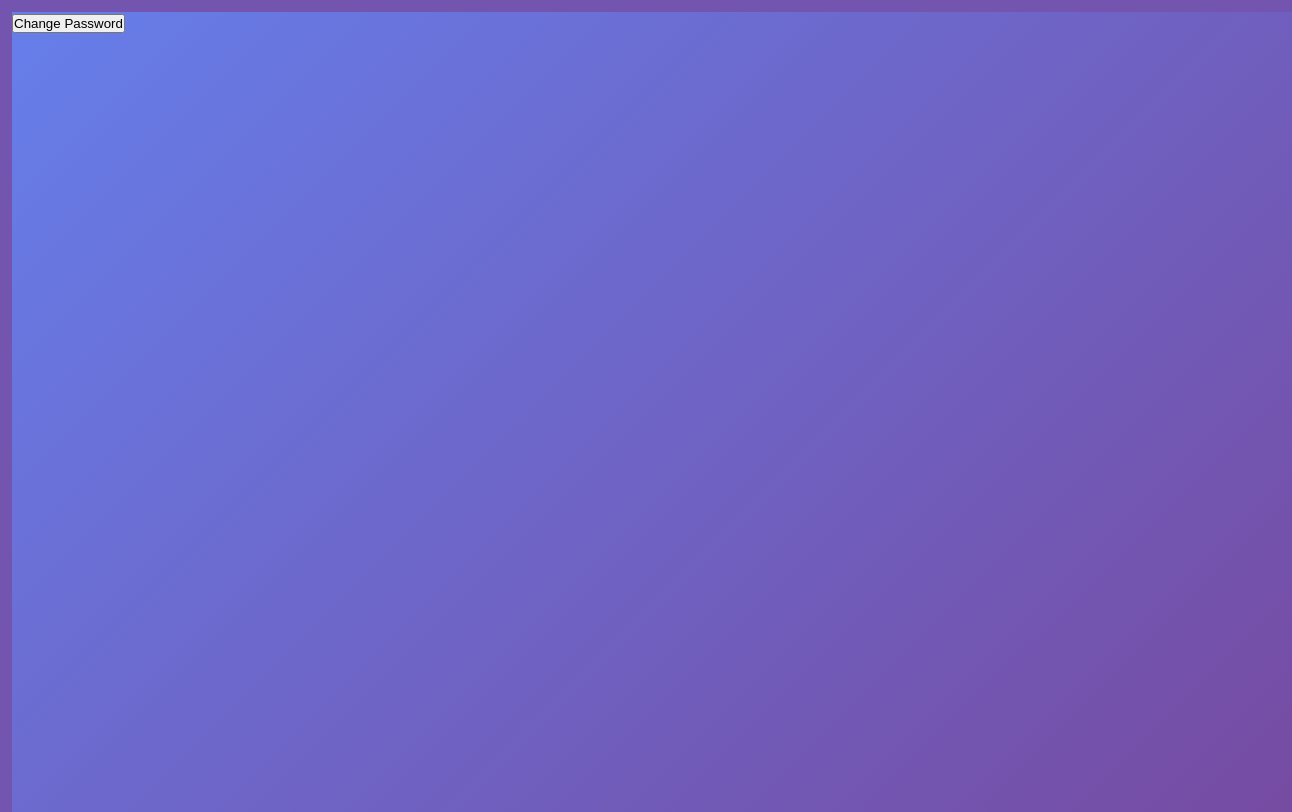
Test: ChangePassword › password mismatch
The width and height of the screenshot is (1292, 812).
Click the button "Change Password" at point(68, 24), box x1=12 y1=14 x2=125 y2=33
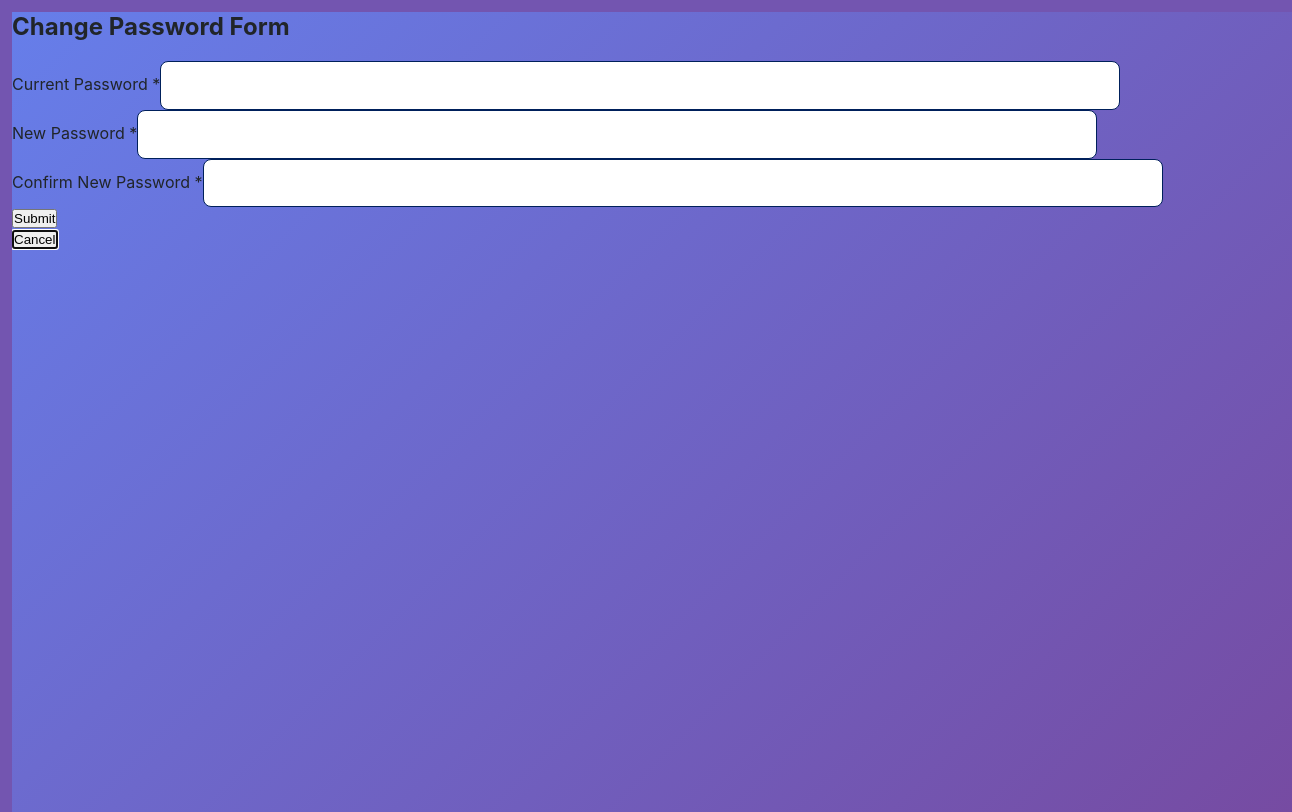
Type "secret12" into the password field labelled "Current Password *" at point(640, 85), box x1=160 y1=61 x2=1120 y2=110
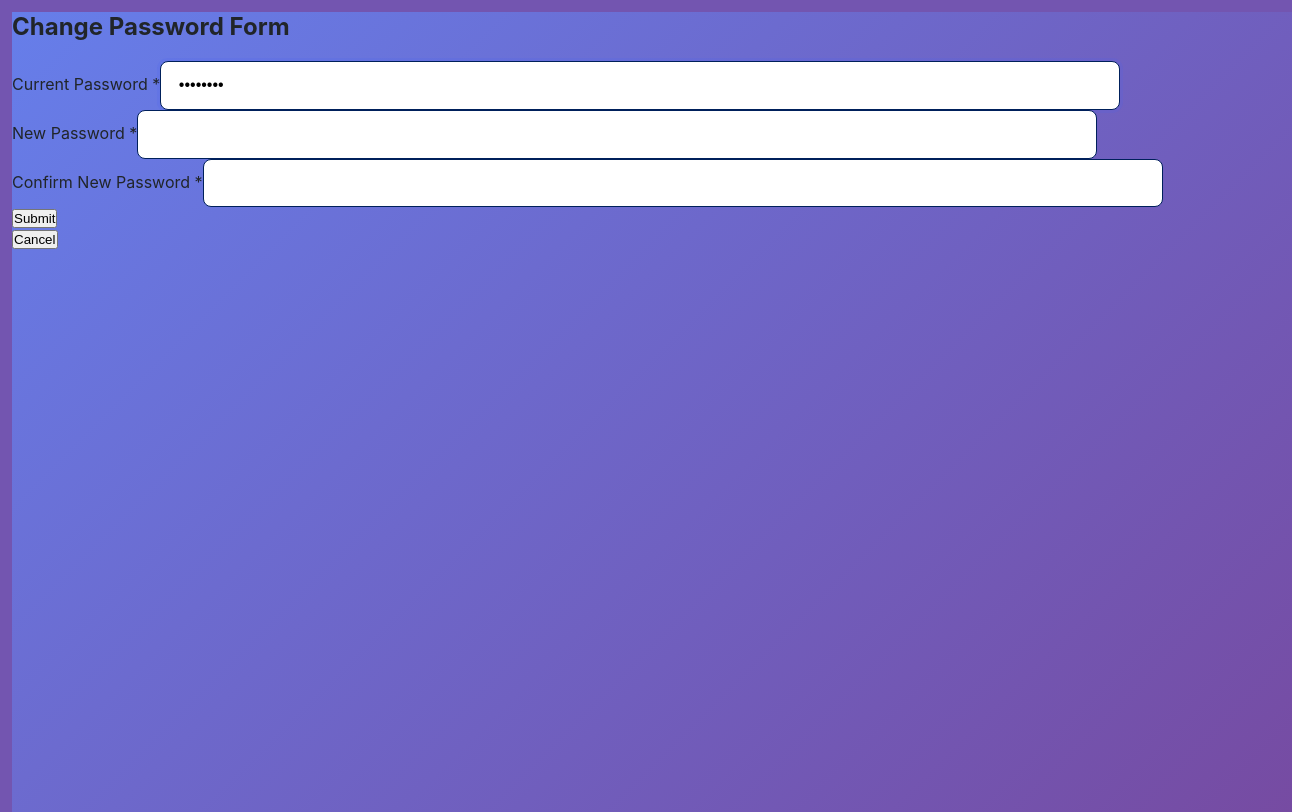
Type "abcdefgh" into the password field labelled "New Password *" at point(617, 134), box x1=137 y1=110 x2=1097 y2=159
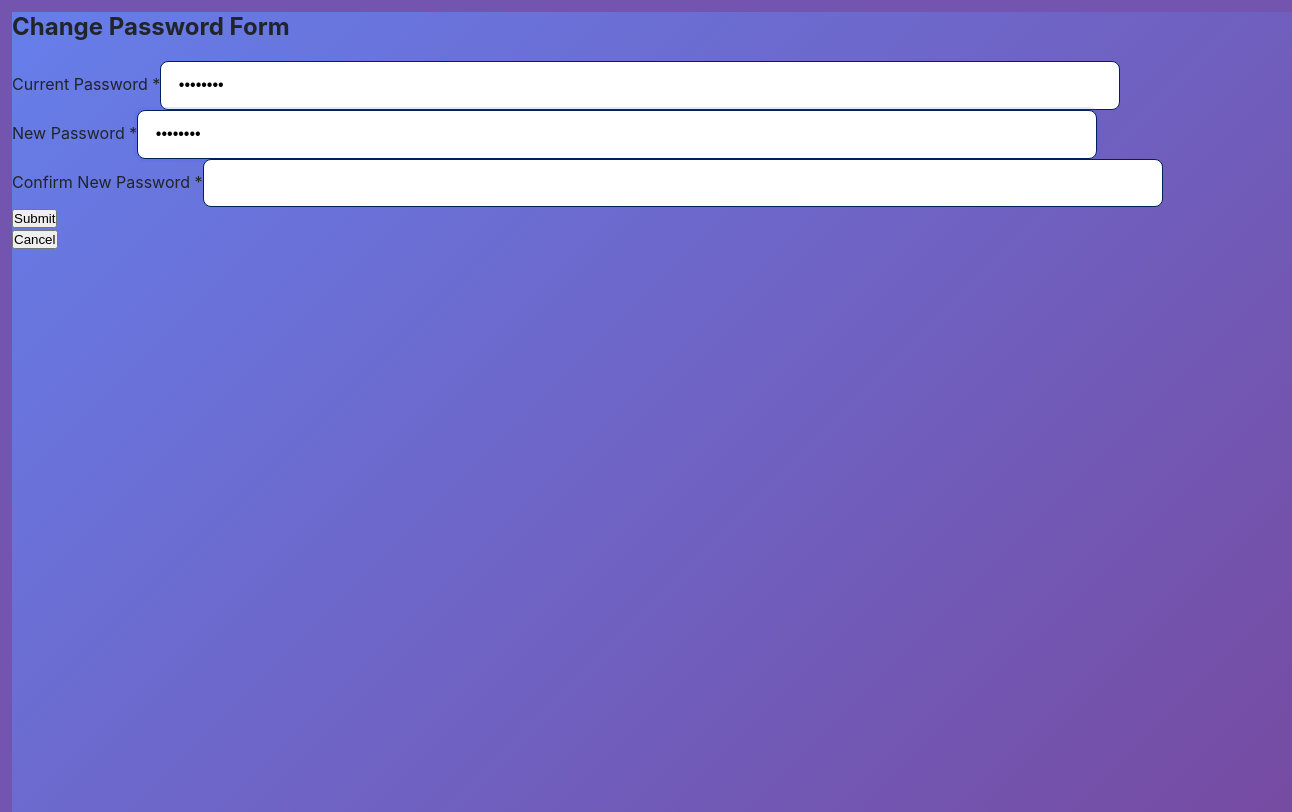
Type "ijklmnop" into the password field labelled "Confirm New Password *" at point(683, 183), box x1=203 y1=159 x2=1163 y2=207
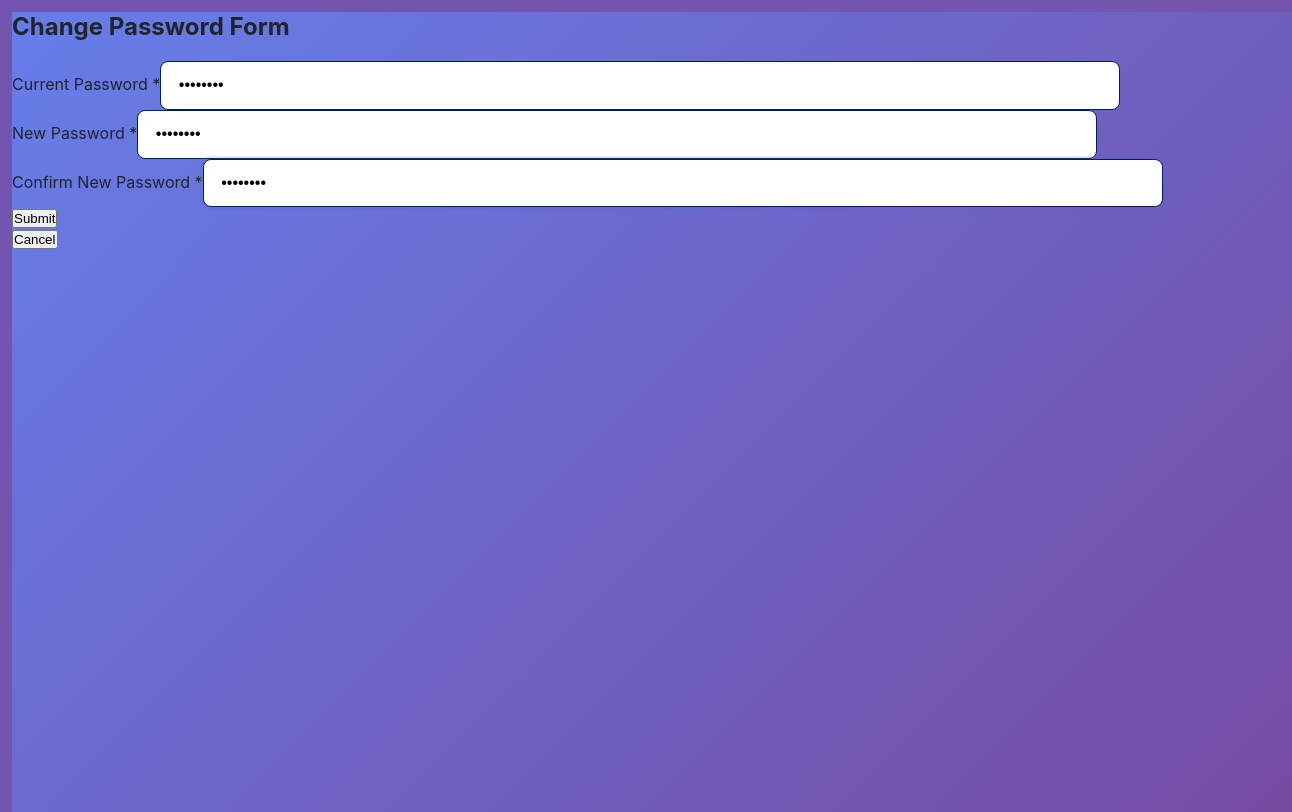
Click the button "Submit" at point(35, 219), box x1=12 y1=209 x2=58 y2=228
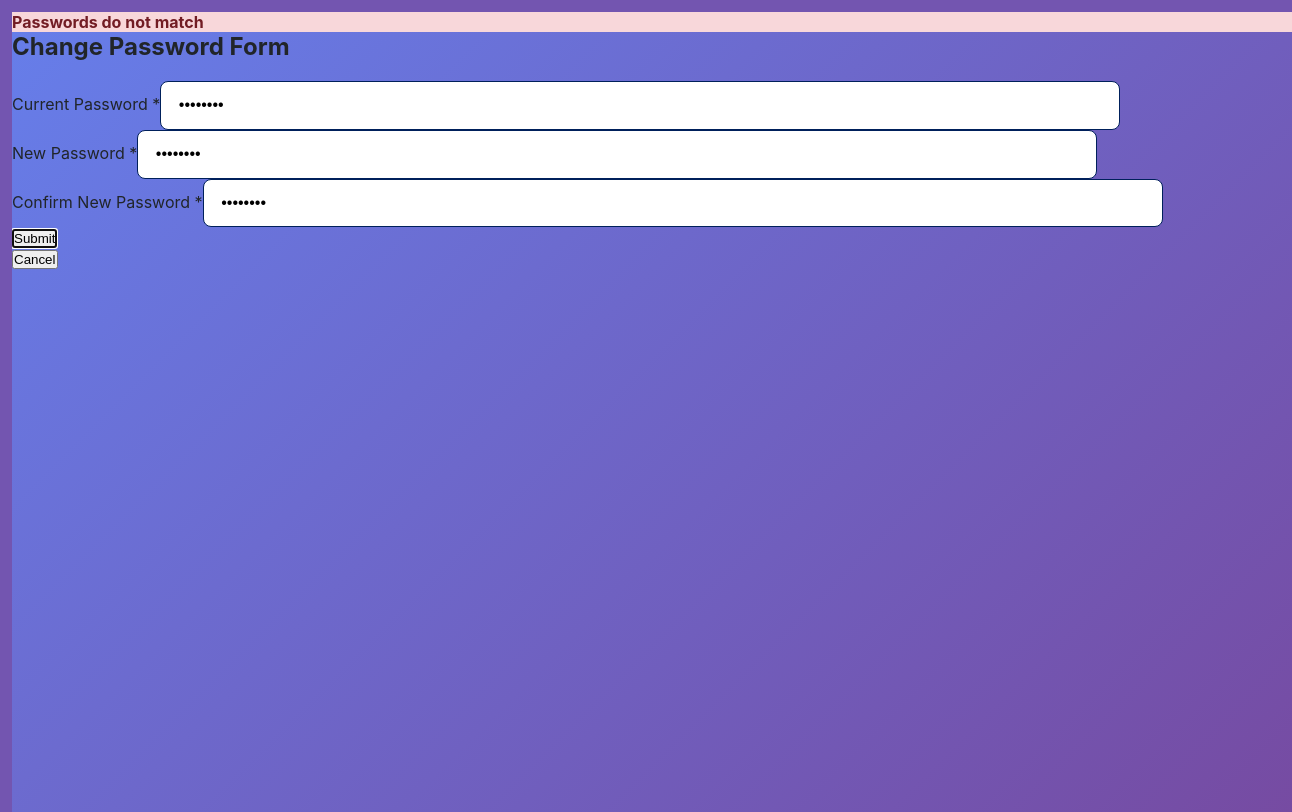
Expected: the text "Passwords do not match" is shown, x1=12 y1=12 x2=1291 y2=32
